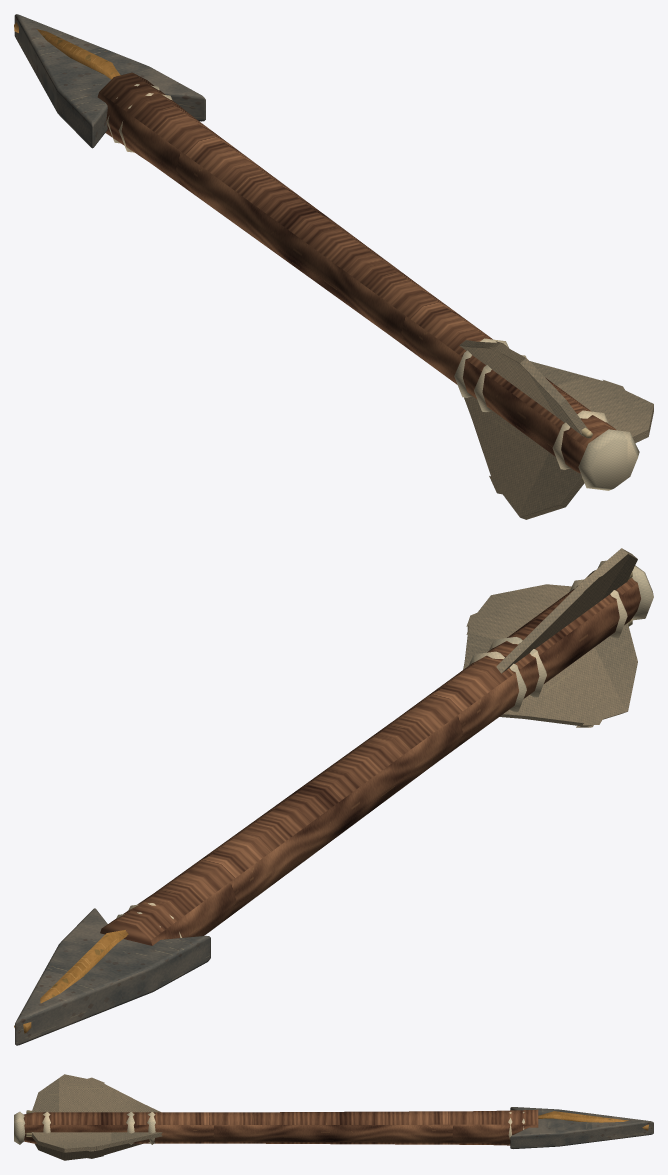
Rendered from fletched_arrow.glb.
The picture shows the model from 3 angles, top to bottom: view 1: azimuth 30°, elevation 25°; view 2: azimuth 150°, elevation 25°; view 3: azimuth 270°, elevation 25°; orthographic projection. The views are drawn at different scales.
Visible parts, largest first — view 1: TexturedSurface.019; view 2: TexturedSurface.019; view 3: TexturedSurface.019.
Boxes of the visible parts, x1,y1,x2,y2 form: TexturedSurface.019: (14, 14, 653, 519); TexturedSurface.019: (14, 548, 653, 1045); TexturedSurface.019: (14, 1074, 653, 1160).
Bounding box in the file's own units: 0.0678 × 0.0726 × 0.4877.
6 materials, 6 textured.
